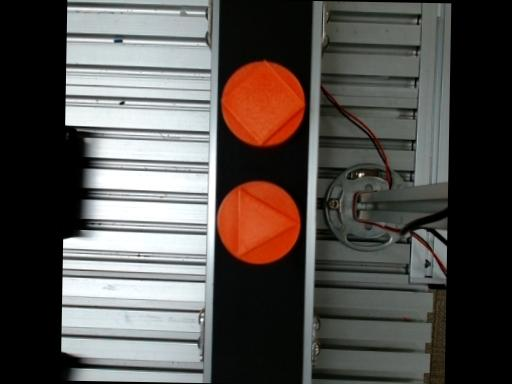Not_Square: (238, 187, 299, 256)
Orange_Waper: (221, 59, 305, 146), (216, 180, 299, 262)
Square: (219, 59, 304, 144)
